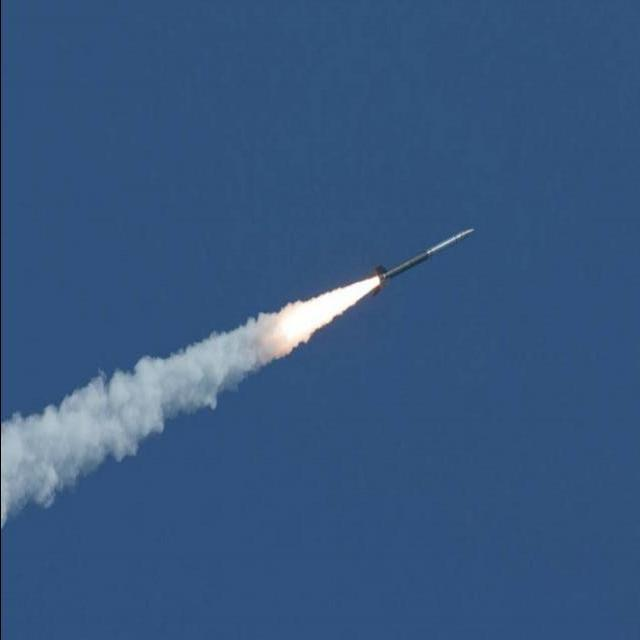missile: (372, 225, 477, 295)
